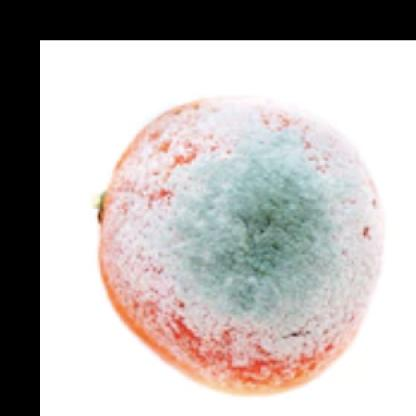rotten: (101, 97, 384, 397)
